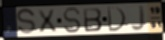B: (82, 7, 104, 33)
D: (106, 5, 128, 33)
J: (130, 4, 146, 33)
S: (16, 7, 37, 37), (62, 6, 82, 35)
X: (35, 8, 59, 34)
